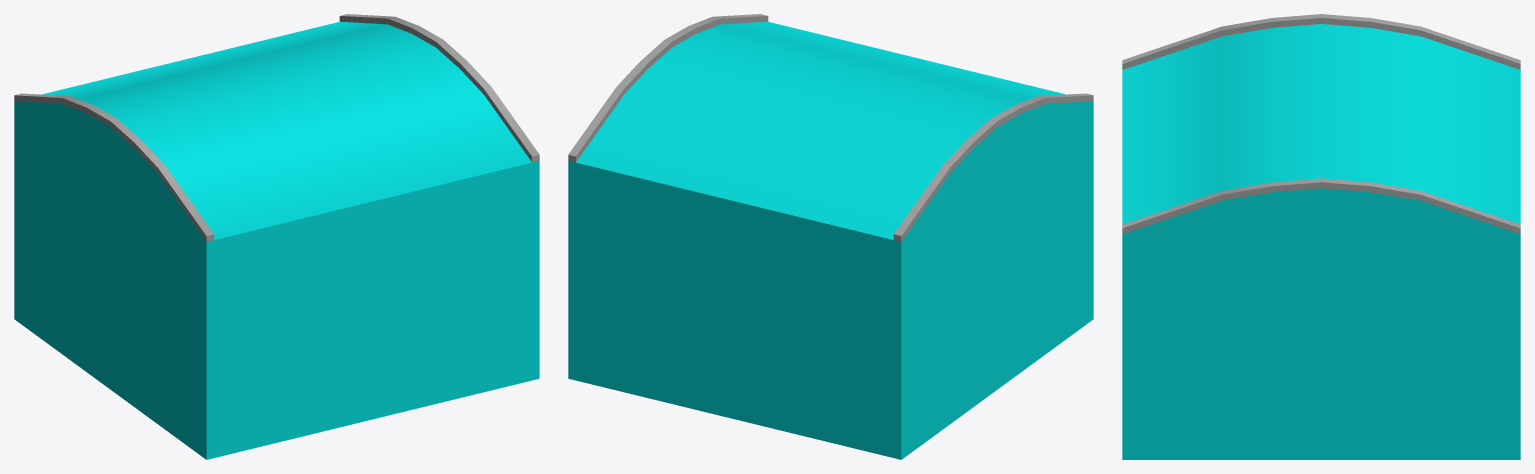
File: Bump02.fbx
3 views of the same model, side by side, from view 1: azimuth 30°, elevation 25°; view 2: azimuth 150°, elevation 25°; view 3: azimuth 270°, elevation 25° (orthographic). The views are drawn at different scales.
Visible parts, largest first — view 1: Bosse02; view 2: Bosse02; view 3: Bosse02.
Part boxes in pixels (x1,y1,x2,y2): Bosse02: [14, 14, 539, 459]; Bosse02: [568, 14, 1093, 459]; Bosse02: [1122, 14, 1520, 459].
Bounding box in the file's own units: 800 × 616 × 800.
